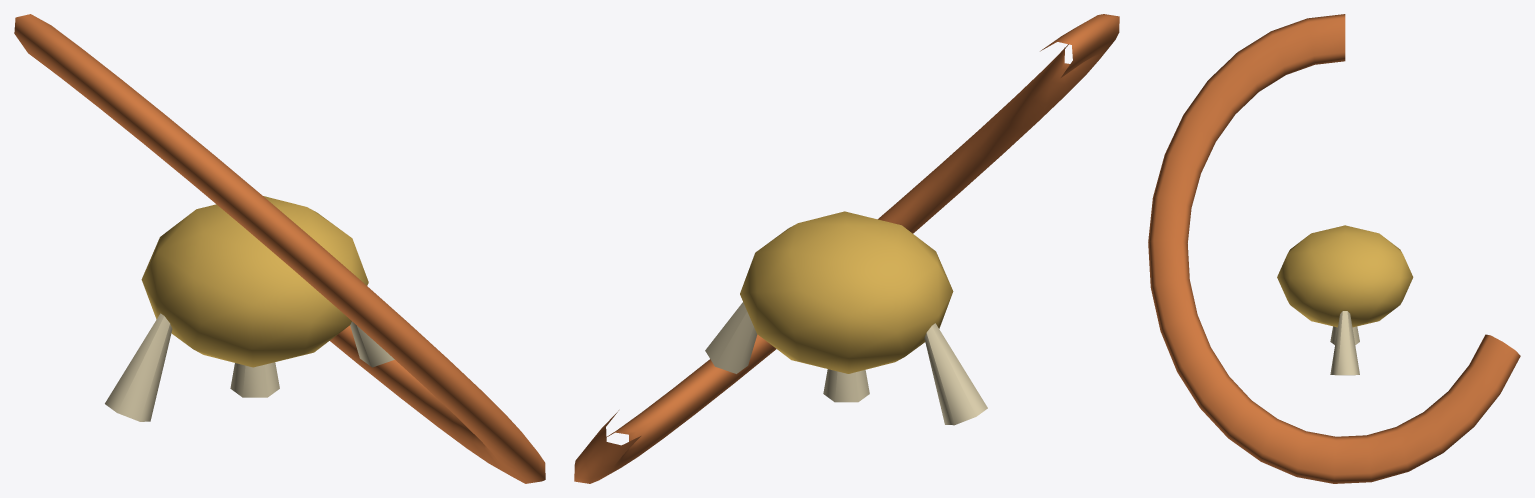
File: unarmed_focus.glb
3 renders of one model, left to right at view 1: azimuth 30°, elevation 25°; view 2: azimuth 150°, elevation 25°; view 3: azimuth 270°, elevation 25°, orthographic. The views are drawn at different scales.
Parts seen in each view (by area): view 1: unarmed_focus_arc, unarmed_focus_impact, unarmed_focus_shard_0, unarmed_focus_shard_1, unarmed_focus_shard_2; view 2: unarmed_focus_impact, unarmed_focus_arc, unarmed_focus_shard_0, unarmed_focus_shard_2, unarmed_focus_shard_1; view 3: unarmed_focus_arc, unarmed_focus_impact, unarmed_focus_shard_2.
Part boxes in pixels (<box>): unarmed_focus_arc: <box>14,14,545,483</box>; unarmed_focus_impact: <box>141,196,368,367</box>; unarmed_focus_shard_0: <box>105,313,172,421</box>; unarmed_focus_shard_1: <box>230,362,279,397</box>; unarmed_focus_shard_2: <box>350,321,394,367</box>; unarmed_focus_impact: <box>740,211,953,373</box>; unarmed_focus_arc: <box>574,14,1119,483</box>; unarmed_focus_shard_0: <box>924,323,987,425</box>; unarmed_focus_shard_2: <box>705,302,757,373</box>; unarmed_focus_shard_1: <box>823,369,869,402</box>; unarmed_focus_arc: <box>1148,14,1520,483</box>; unarmed_focus_impact: <box>1277,225,1413,327</box>; unarmed_focus_shard_2: <box>1330,311,1359,375</box>.
Size of what is drawn, in the model's own units: 2.69 by 2.94 by 3.01.
